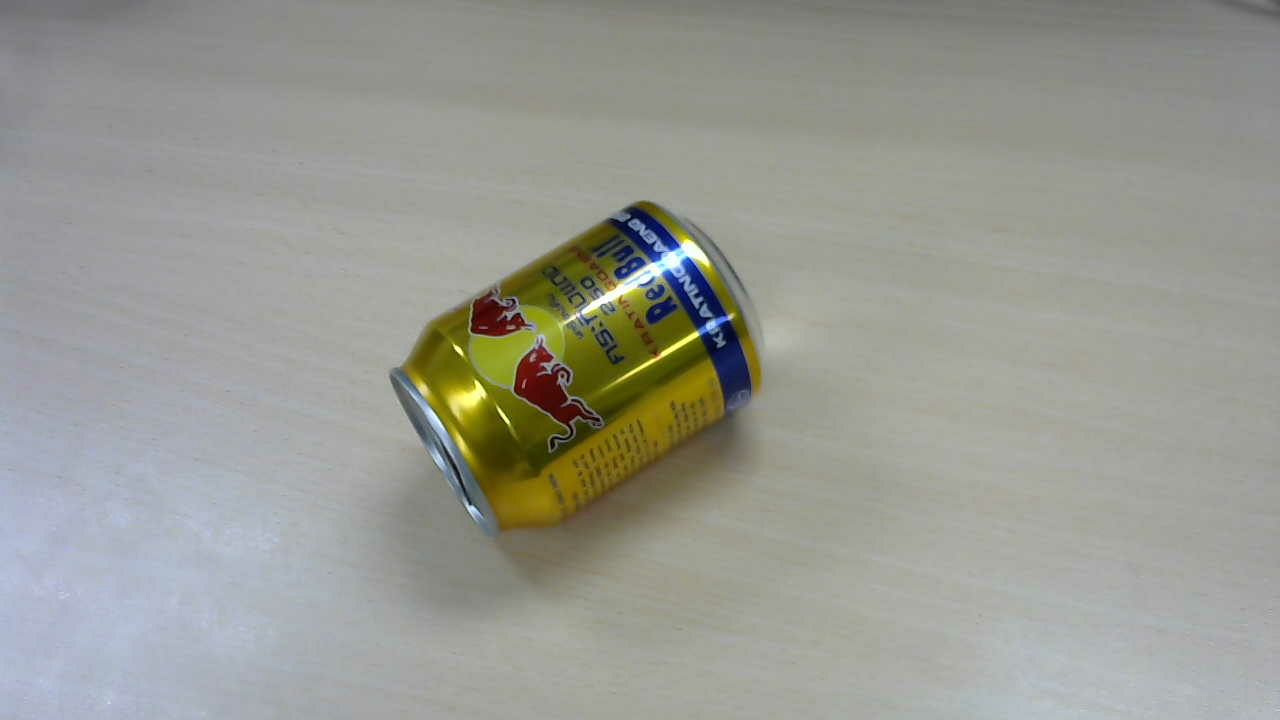Red_Bull: (398, 207, 768, 541)
